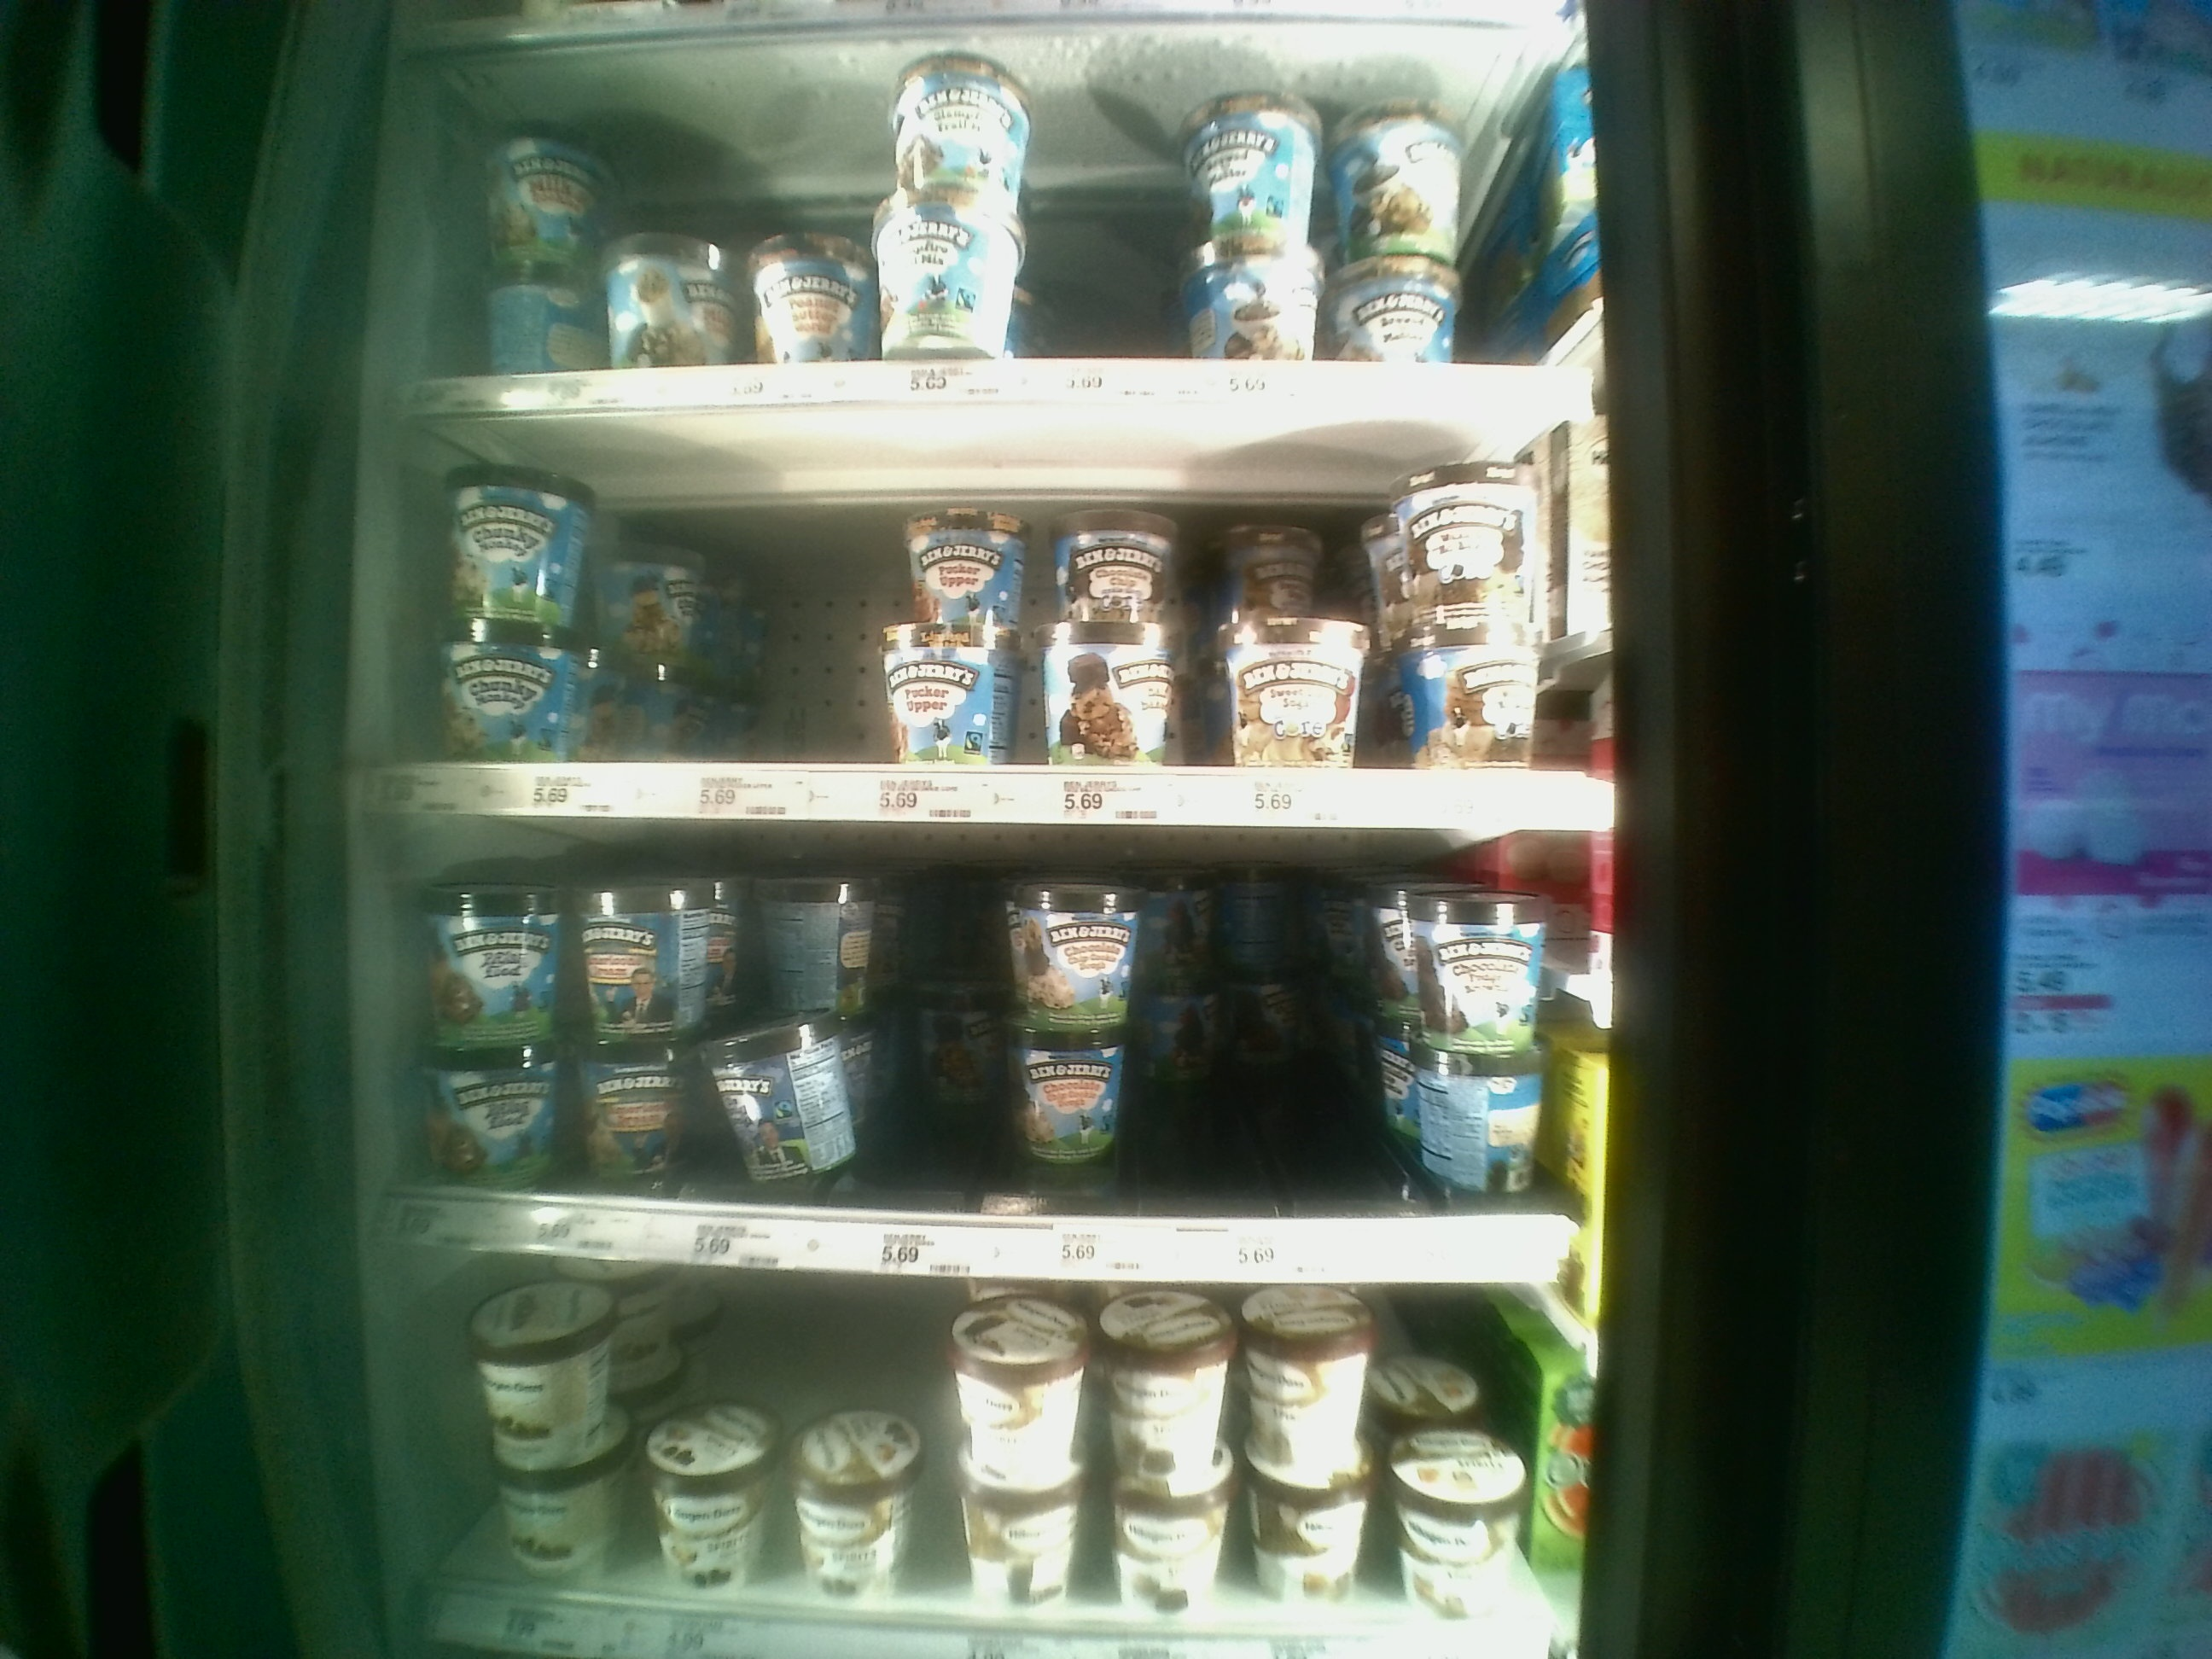shelf: (383, 829, 1562, 1284), (404, 423, 1573, 840), (434, 73, 1545, 422)
